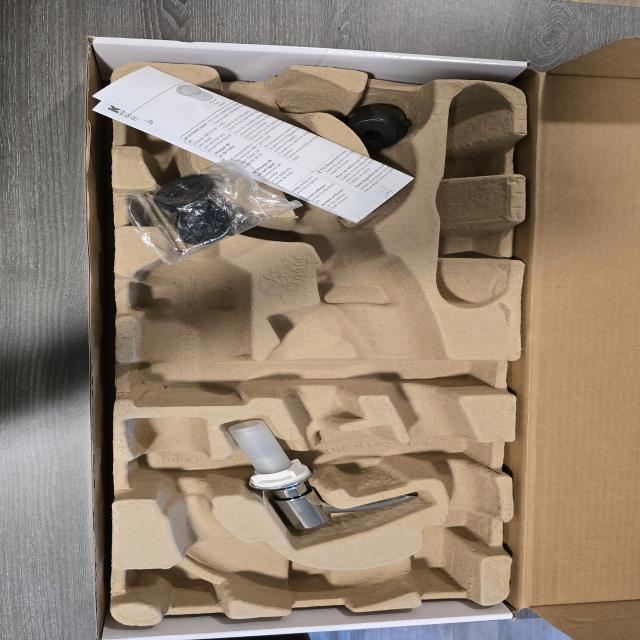1m: (127, 71, 492, 607)
2: (226, 418, 416, 533)
3m: (136, 231, 248, 406)
4m: (438, 82, 514, 309)
5: (345, 103, 413, 151)
6m: (121, 91, 228, 163)
7: (123, 157, 306, 262)
8: (88, 65, 415, 225)
